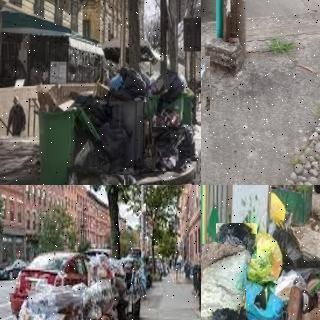Garbage: (201, 242, 249, 320), (13, 287, 83, 320), (239, 275, 282, 320), (245, 232, 281, 284), (273, 220, 304, 269), (216, 223, 257, 259), (152, 127, 185, 171), (109, 64, 146, 100), (64, 165, 104, 185), (96, 175, 124, 185)
